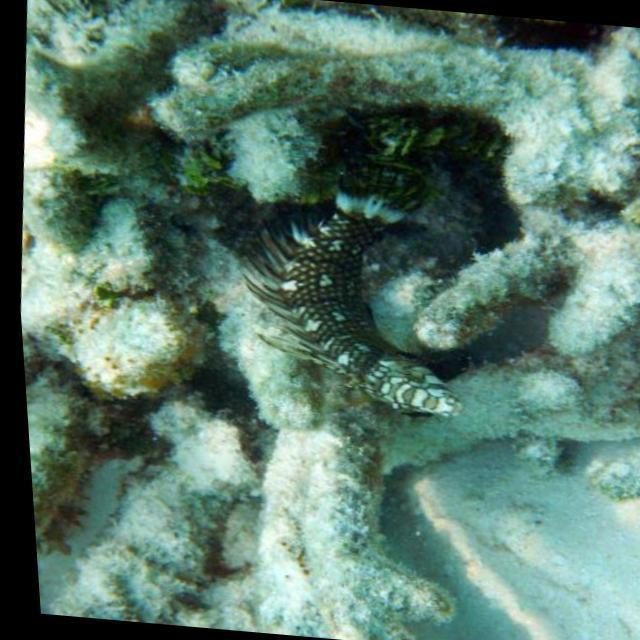Dead Coral: (0, 0, 279, 630), (243, 0, 640, 204), (452, 192, 640, 486), (247, 428, 466, 640)
